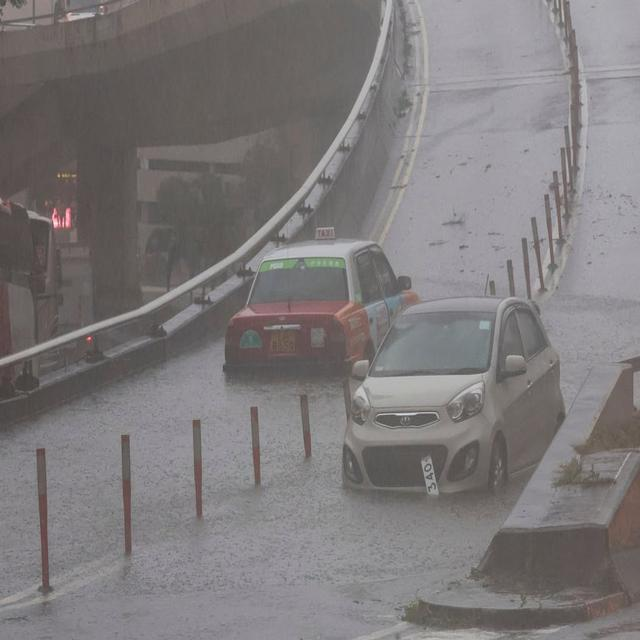Car-RiskLevel2: (345, 300, 570, 486)
Car-RiskLevel3: (220, 221, 422, 369)
